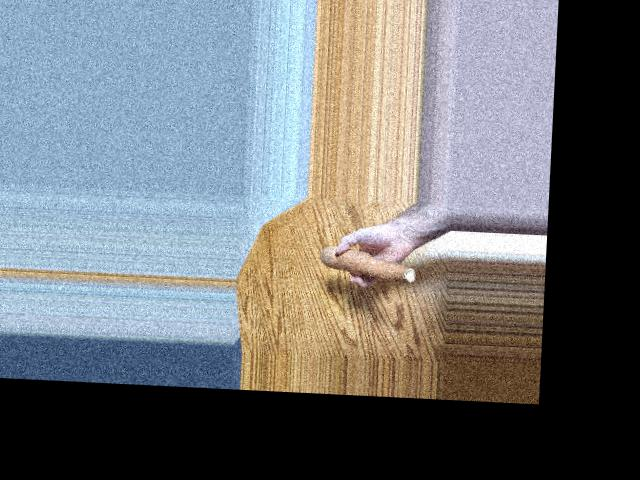sweet_potato: (314, 250, 424, 285)
